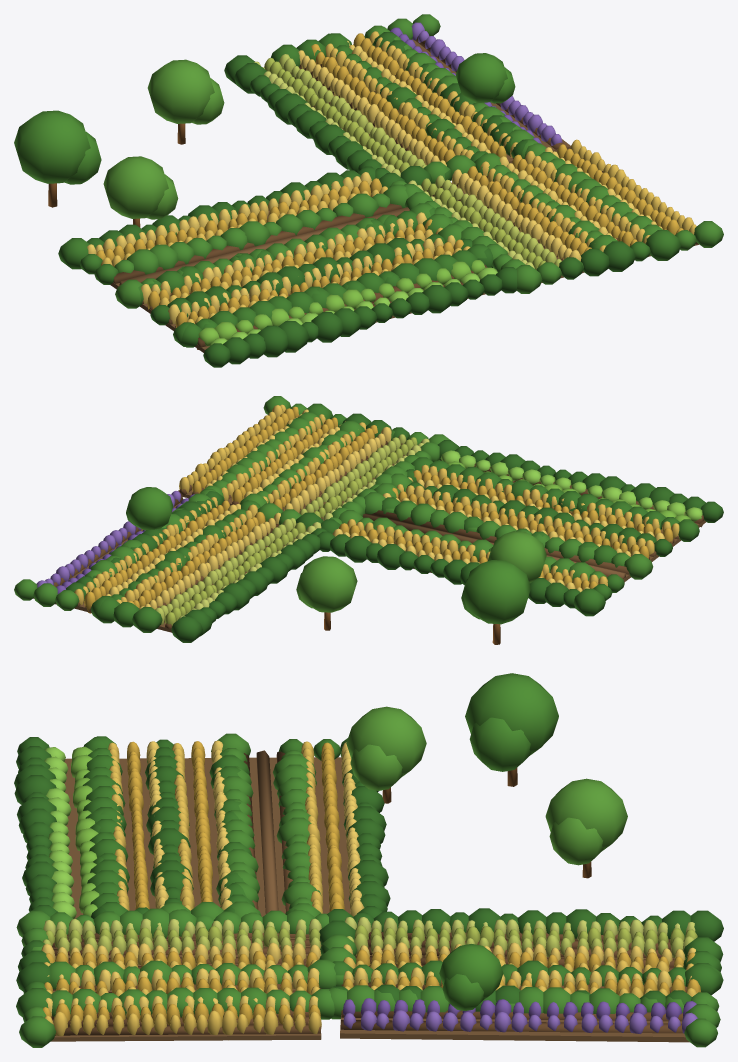
The model's file is improvement_farm_1_1.fbx.
3 views of the same model, one above another, from view 1: azimuth 30°, elevation 25°; view 2: azimuth 150°, elevation 25°; view 3: azimuth 270°, elevation 25° (orthographic). The views are drawn at different scales.
Parts seen in each view (by area): view 1: improvement_farm_1_1_crop#d4aa3e.003_08, improvement_farm_1_1_crop#e8c860.002_09, improvement_farm_1_1_hedge2.009_04, improvement_farm_1_1_hedge0.009_15, improvement_farm_1_1_crop#e0bc52.003_07, improvement_farm_1_1_leaf#5a9a38.002_28, improvement_farm_1_1_leaf#4a8a30.003_27, improvement_farm_1_1_hedge2.010_10, improvement_farm_1_1_hedge1.009_11, improvement_farm_1_1_hedge1.010_12, improvement_farm_1_1_crop#b8c45a.003_18, improvement_farm_1_1_crop#a8b84c.003_19 (+11 smaller); view 2: improvement_farm_1_1_crop#d4aa3e.003_08, improvement_farm_1_1_crop#e0bc52.003_07, improvement_farm_1_1_hedge2.009_04, improvement_farm_1_1_crop#e8c860.002_09, improvement_farm_1_1_hedge1.010_12, improvement_farm_1_1_hedge0.009_15, improvement_farm_1_1_leaf#4a8a30.003_27, improvement_farm_1_1_hedge1.009_11, improvement_farm_1_1_leaf#5a9a38.002_28, improvement_farm_1_1_hedge0.010_16, improvement_farm_1_1_hedge2.010_10, improvement_farm_1_1_hedge0.011_22 (+13 smaller); view 3: improvement_farm_1_1_crop#d4aa3e.003_08, improvement_farm_1_1_tilled.003_00, improvement_farm_1_1_crop#e8c860.002_09, improvement_farm_1_1_hedge0.009_15, improvement_farm_1_1_crop#e0bc52.003_07, improvement_farm_1_1_hedge1.010_12, improvement_farm_1_1_hedge2.009_04, improvement_farm_1_1_leaf#5a9a38.002_28, improvement_farm_1_1_leaf#4a8a30.003_27, improvement_farm_1_1_hedge1.009_11, improvement_farm_1_1_hedge2.010_10, improvement_farm_1_1_crop#b8c45a.003_18 (+15 smaller).
Boxes of the visible parts, x1,y1,x2,y2 form: improvement_farm_1_1_crop#d4aa3e.003_08: (96,33,683,327); improvement_farm_1_1_crop#e8c860.002_09: (87,41,666,324); improvement_farm_1_1_hedge2.009_04: (203,55,517,367); improvement_farm_1_1_hedge0.009_15: (114,14,617,274); improvement_farm_1_1_crop#e0bc52.003_07: (101,31,696,323); improvement_farm_1_1_leaf#5a9a38.002_28: (103,59,224,219); improvement_farm_1_1_leaf#4a8a30.003_27: (14,53,515,184); improvement_farm_1_1_hedge2.010_10: (58,207,681,347); improvement_farm_1_1_hedge1.009_11: (150,32,635,325); improvement_farm_1_1_hedge1.010_12: (115,143,662,308); improvement_farm_1_1_crop#b8c45a.003_18: (279,54,561,266); improvement_farm_1_1_crop#a8b84c.003_19: (264,58,545,269); improvement_farm_1_1_crop#d4aa3e.003_08: (84,406,673,613); improvement_farm_1_1_crop#e0bc52.003_07: (74,404,679,604); improvement_farm_1_1_hedge2.009_04: (171,440,723,642); improvement_farm_1_1_crop#e8c860.002_09: (105,409,664,609); improvement_farm_1_1_hedge1.010_12: (200,412,653,579); improvement_farm_1_1_hedge0.009_15: (14,421,606,610); improvement_farm_1_1_leaf#4a8a30.003_27: (126,487,530,624); improvement_farm_1_1_hedge1.009_11: (66,413,672,600); improvement_farm_1_1_leaf#5a9a38.002_28: (296,531,546,612); improvement_farm_1_1_hedge0.010_16: (317,531,580,608); improvement_farm_1_1_hedge2.010_10: (305,403,697,616); improvement_farm_1_1_hedge0.011_22: (90,500,260,632); improvement_farm_1_1_crop#d4aa3e.003_08: (43,741,700,1025); improvement_farm_1_1_tilled.003_00: (51,757,689,1042); improvement_farm_1_1_crop#e8c860.002_09: (41,740,695,1017); improvement_farm_1_1_hedge0.009_15: (49,750,720,1047); improvement_farm_1_1_crop#e0bc52.003_07: (44,741,696,1036); improvement_farm_1_1_hedge1.010_12: (50,733,334,1019); improvement_farm_1_1_hedge2.009_04: (14,737,723,954); improvement_farm_1_1_leaf#5a9a38.002_28: (346,706,627,865); improvement_farm_1_1_leaf#4a8a30.003_27: (439,673,558,1010); improvement_farm_1_1_hedge1.009_11: (16,739,691,1011); improvement_farm_1_1_hedge2.010_10: (16,737,347,1017); improvement_farm_1_1_crop#b8c45a.003_18: (43,933,693,958).
Bounding box in the file's own units: 207 × 36.66 × 209.
